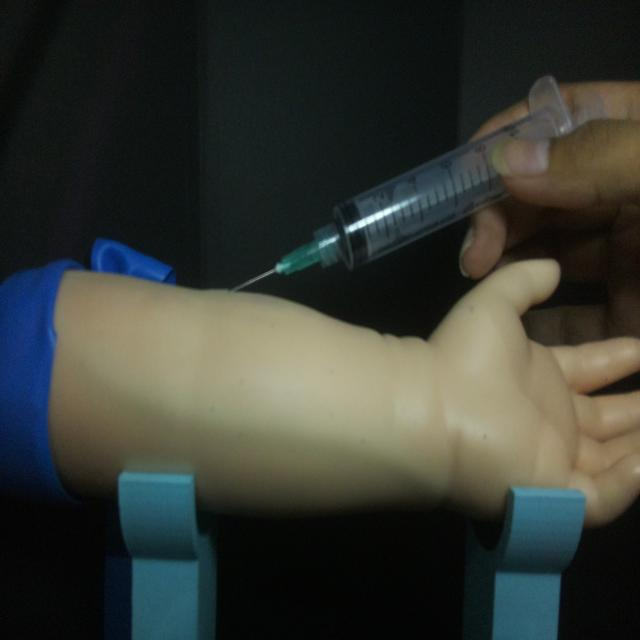21deg: (225, 72, 577, 296)
